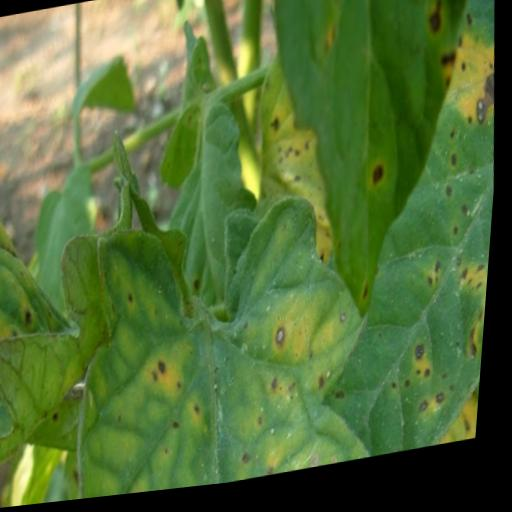Septoria: (58, 190, 394, 504), (294, 0, 512, 477), (253, 0, 512, 337)
